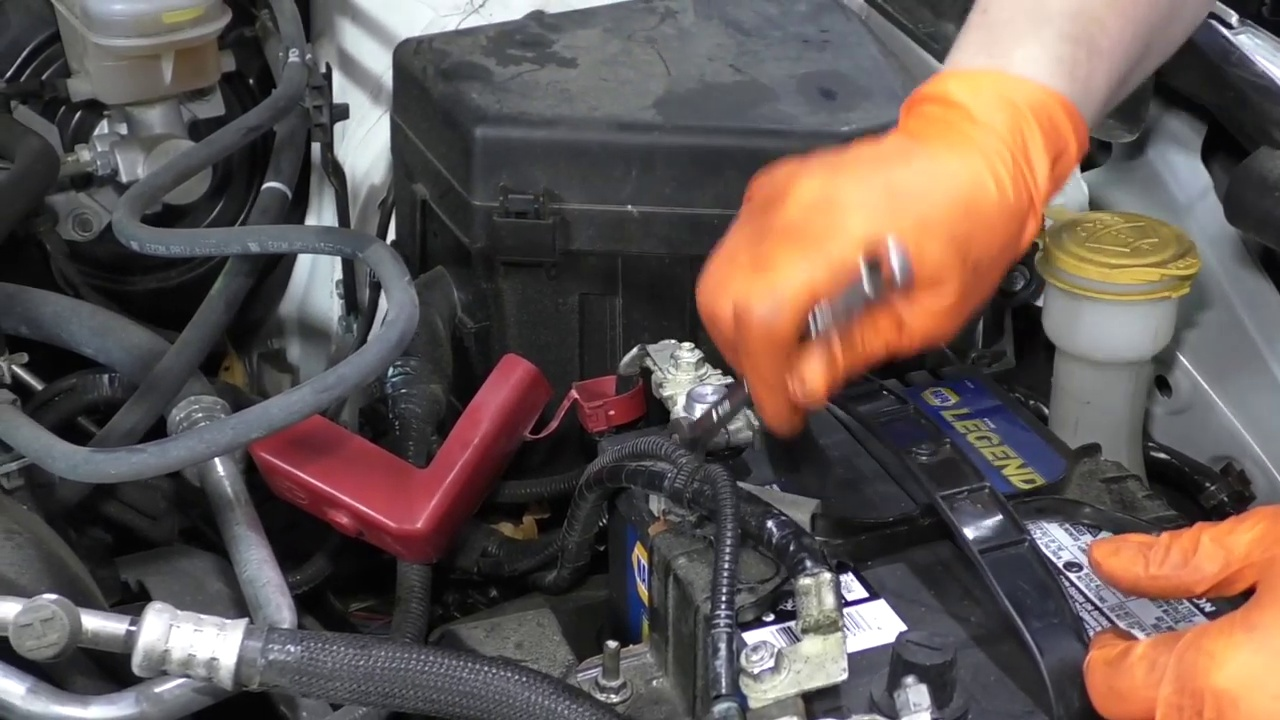battery: (589, 367, 1251, 710)
pos_connected: (458, 306, 763, 464)
pos_touched: (638, 244, 854, 476)
